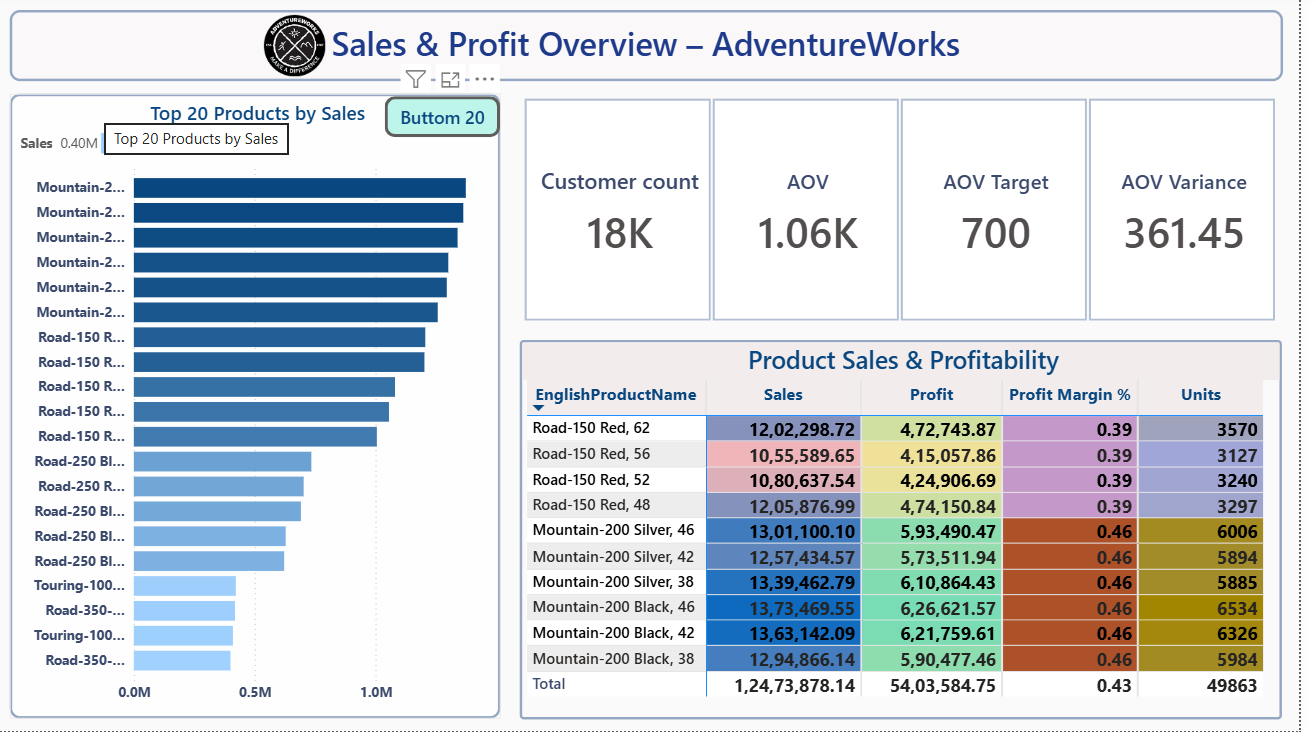

Layout of this report page (visuals, bound fields, positions):
{"tool":"powerbi","page":{"name":"Page 2","canvas":[1280,720],"ordinal":1},"visuals":[{"type":"textbox","box":[18.9,14.5,1245.4,69.8],"z":0},{"type":"image","box":[244.1,14.5,104.6,69.8],"z":1000},{"type":"pivotTable","title":"Product Sales & Profitability","fields":{"Rows":["DimProduct.EnglishProductName"],"Values":["Measure Table.Sales","Measure Table.Profit","Measure Table.Profit Margin %","Measure Table.Units"]},"box":[517.1,337.1,745.7,371.4],"z":2000},{"type":"barChart","title":"Top 20 Products by Sales","fields":{"Y":["Measure Table.Sales"],"Category":["DimProduct.EnglishProductName"]},"box":[18.6,97.1,480,611.4],"z":3000},{"type":"actionButton","title":"B","box":[385.7,98.6,112.9,40],"z":6000},{"type":"cardVisual","fields":{"Data":["Measure Table.Customer count","Measure Table.AOV","Measure Table.AOV Target","Measure Table.AOV Variance"]},"box":[517.1,97.1,747.1,227.1],"z":7000}]}

Visuals, with their boxes in screenshot pixels (x1, y1, x2, y2), scaled from the page's 1280x720 canvas onto the 1316x732 screenshot:
textbox: BBox(19, 15, 1300, 86)
image: BBox(251, 15, 359, 86)
"Product Sales & Profitability" pivotTable: BBox(532, 343, 1298, 720)
"Top 20 Products by Sales" barChart: BBox(19, 99, 513, 720)
"B" actionButton: BBox(397, 100, 513, 141)
cardVisual - Measure Table.Customer count x Measure Table.AOV: BBox(532, 99, 1300, 330)
